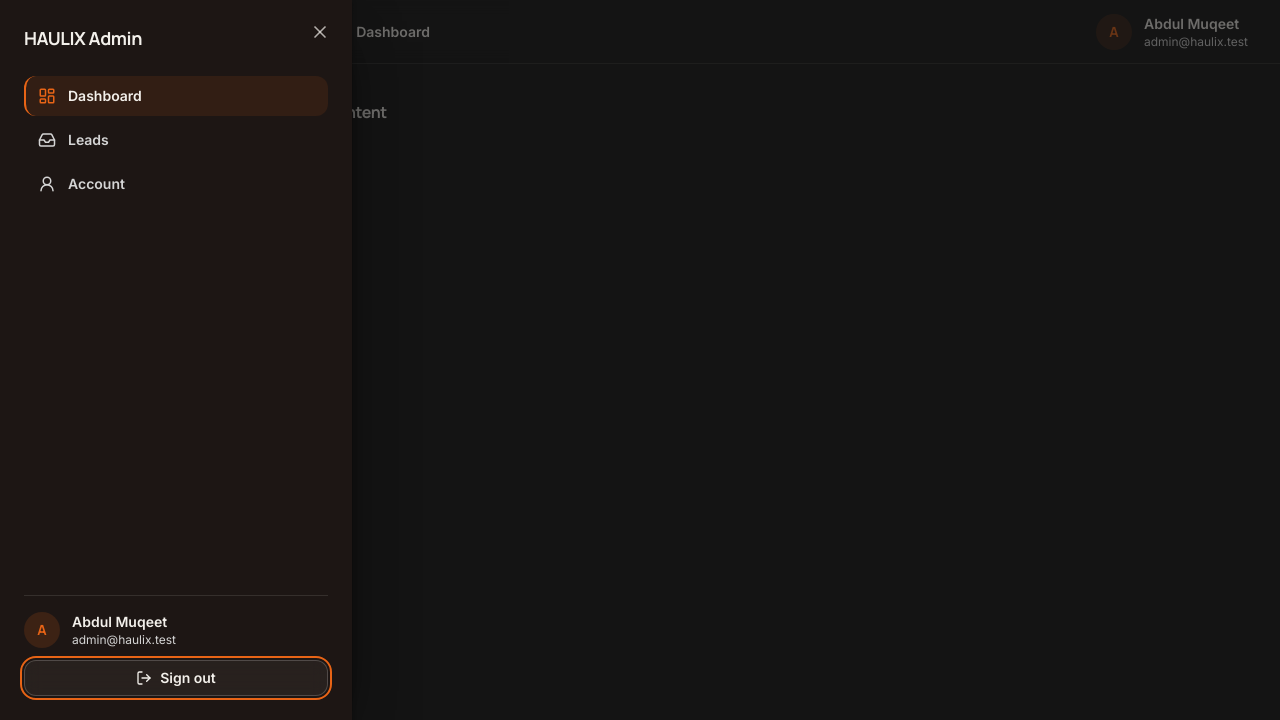
Test case: AdminShell: mobile menu › closes with its close button
Earlier steps of the test are not shown.
Step 1. Click the button named "Close menu" → (320, 32), box top-left (304, 16), bottom-right (336, 48)
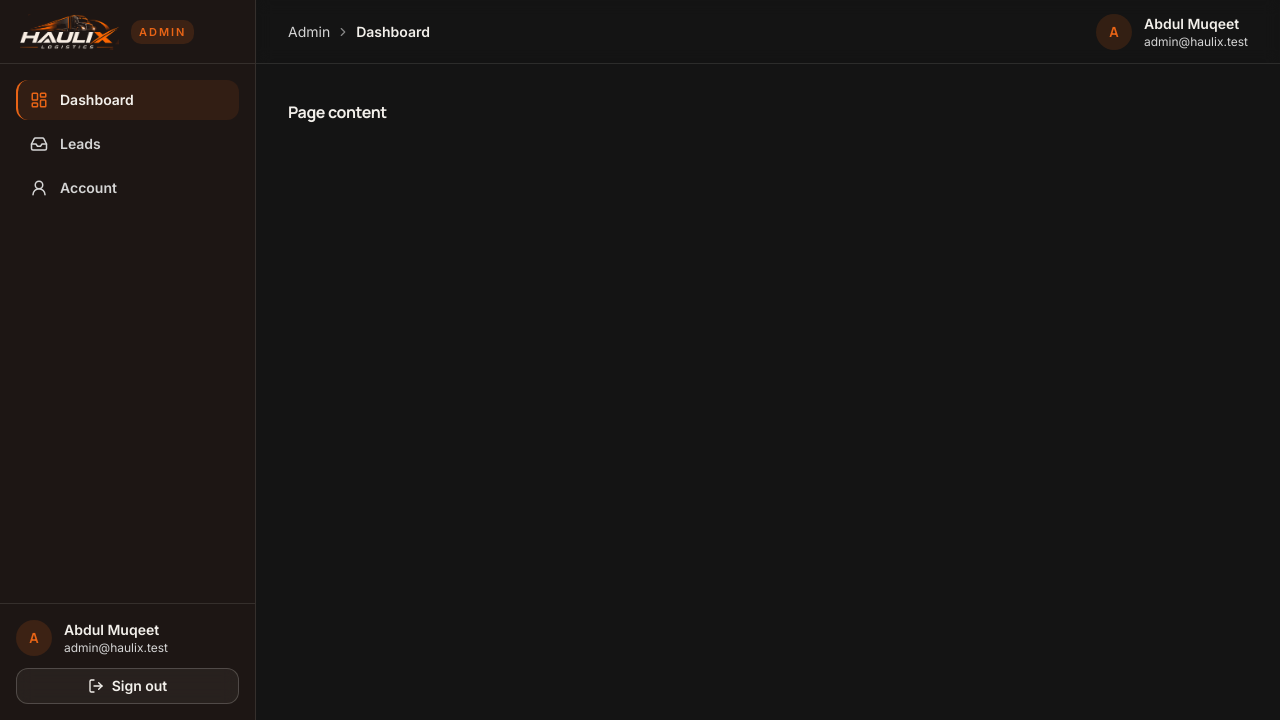
Expected: the dialog is gone
